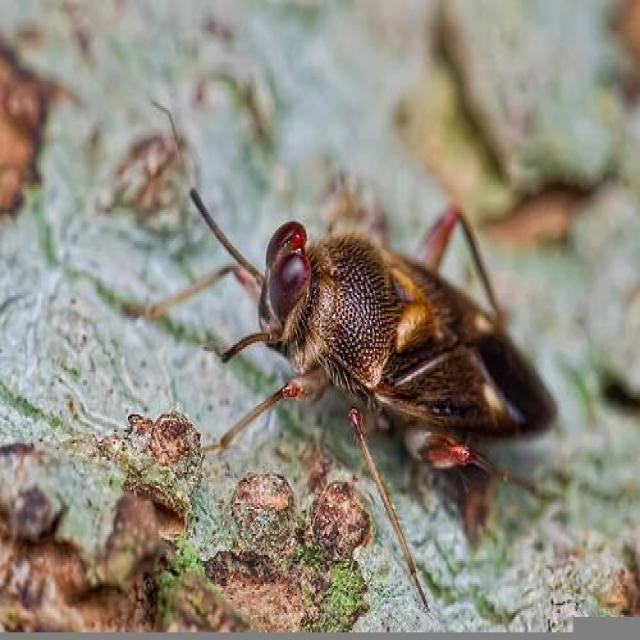Miridae-Adult-: (132, 110, 561, 612)
